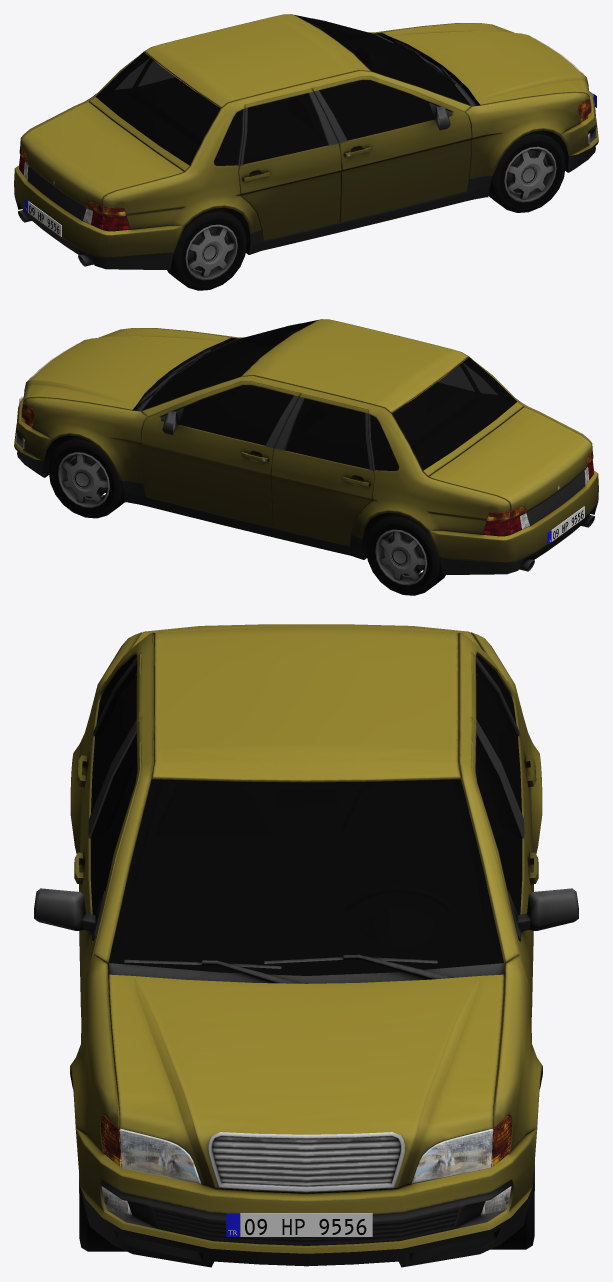
File: CarPlated2870.dae
3 renders of one model, top to bottom at view 1: azimuth 30°, elevation 25°; view 2: azimuth 150°, elevation 25°; view 3: azimuth 270°, elevation 25°, orthographic. The views are drawn at different scales.
Parts seen in each view (by area): view 1: CarPlated2870; view 2: CarPlated2870; view 3: CarPlated2870.
Boxes of the visible parts, left/top/right/bottom form: CarPlated2870: left=14, top=14, right=598, bottom=290; CarPlated2870: left=14, top=319, right=598, bottom=595; CarPlated2870: left=34, top=624, right=578, bottom=1267.
Bounding box in the file's own units: 4.39 × 1.94 × 1.34.
